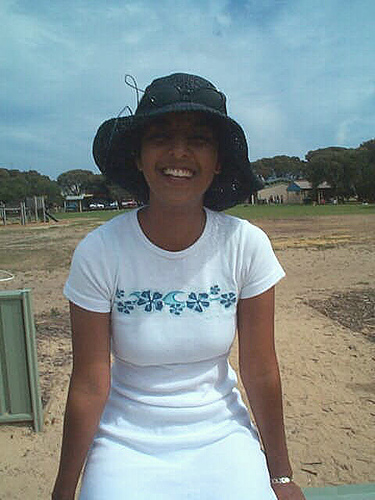without_mask: (132, 112, 225, 204)
